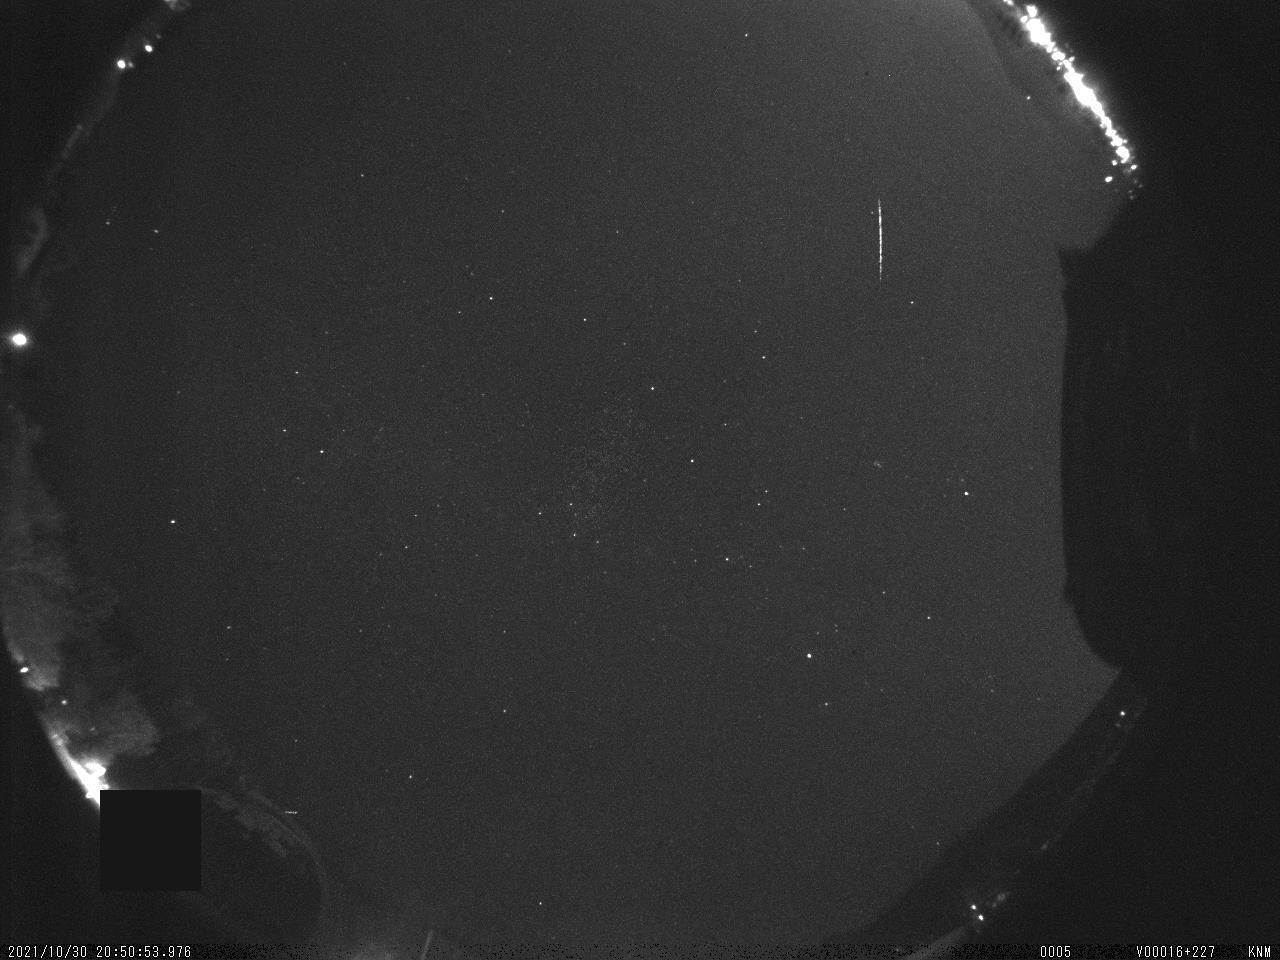Meteor: (871, 191, 890, 284)
